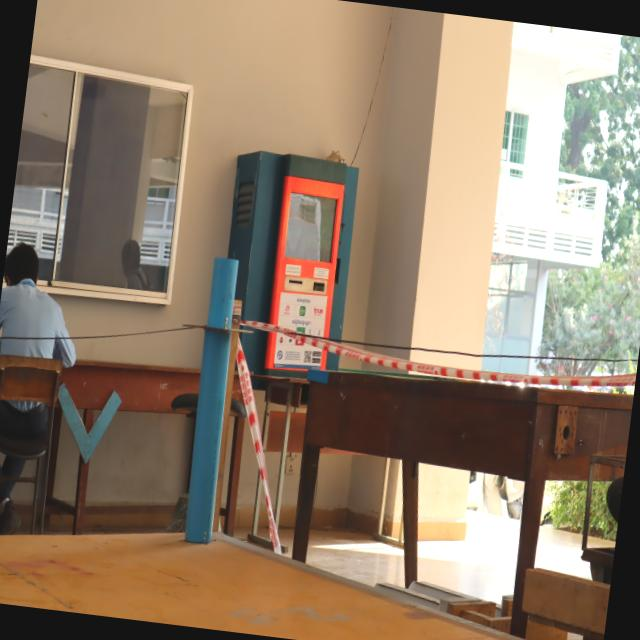pole: (176, 246, 265, 386)
